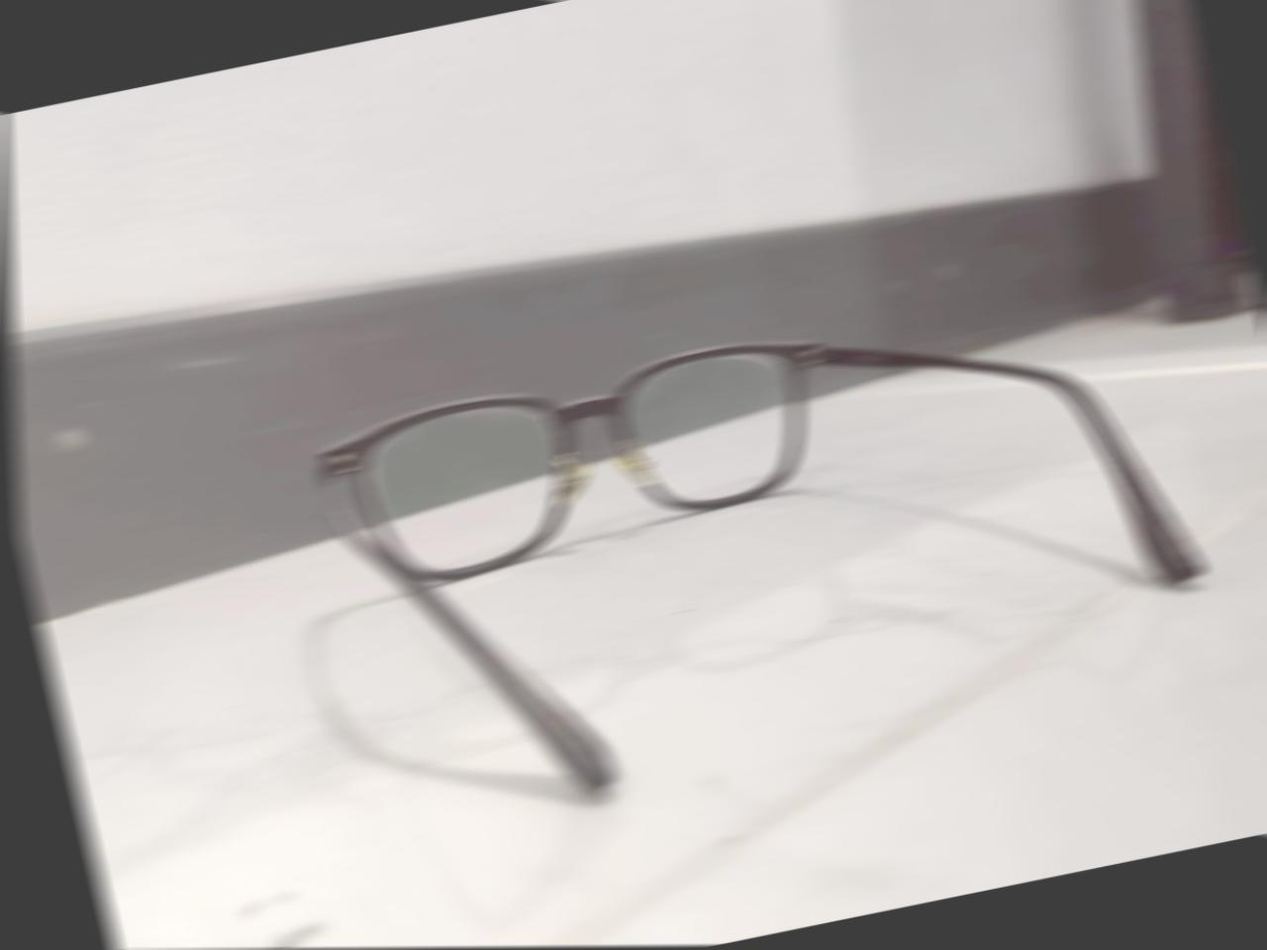glasses: (281, 242, 1254, 828)
